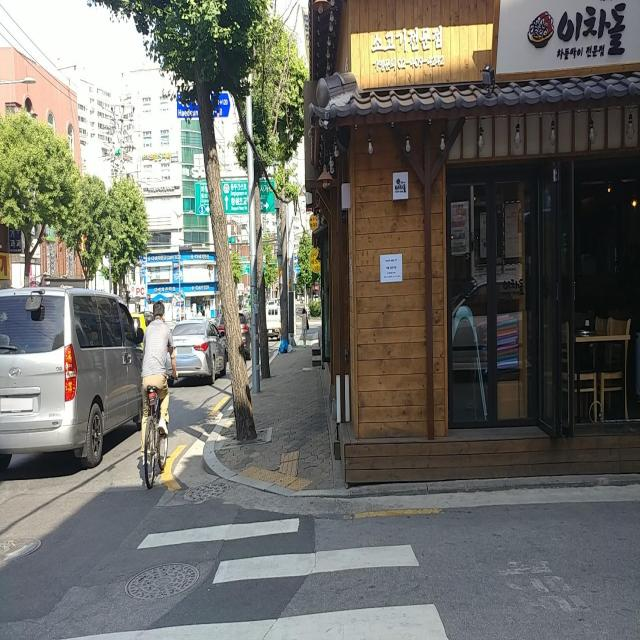횡단보도: (136, 516, 448, 639)
